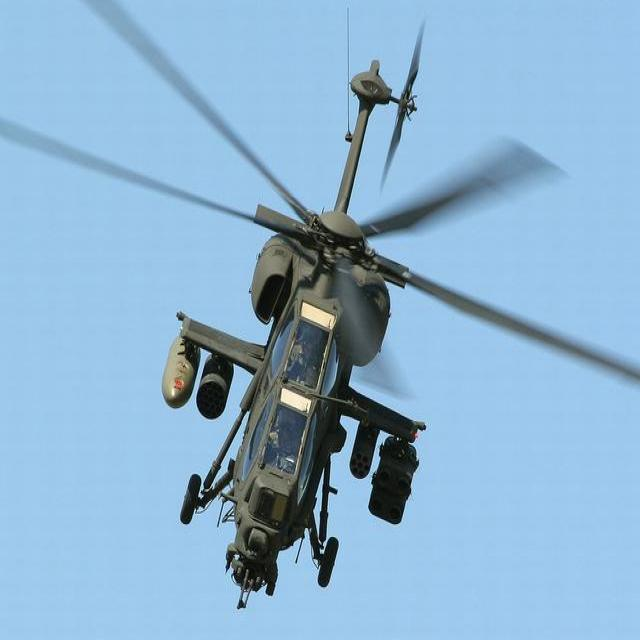MIL_HELO: (53, 12, 579, 618)
